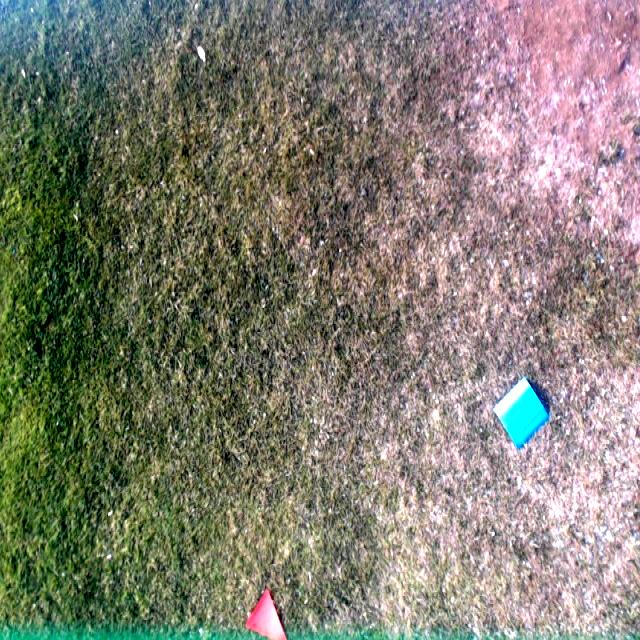blue_square: (492, 376, 550, 450)
